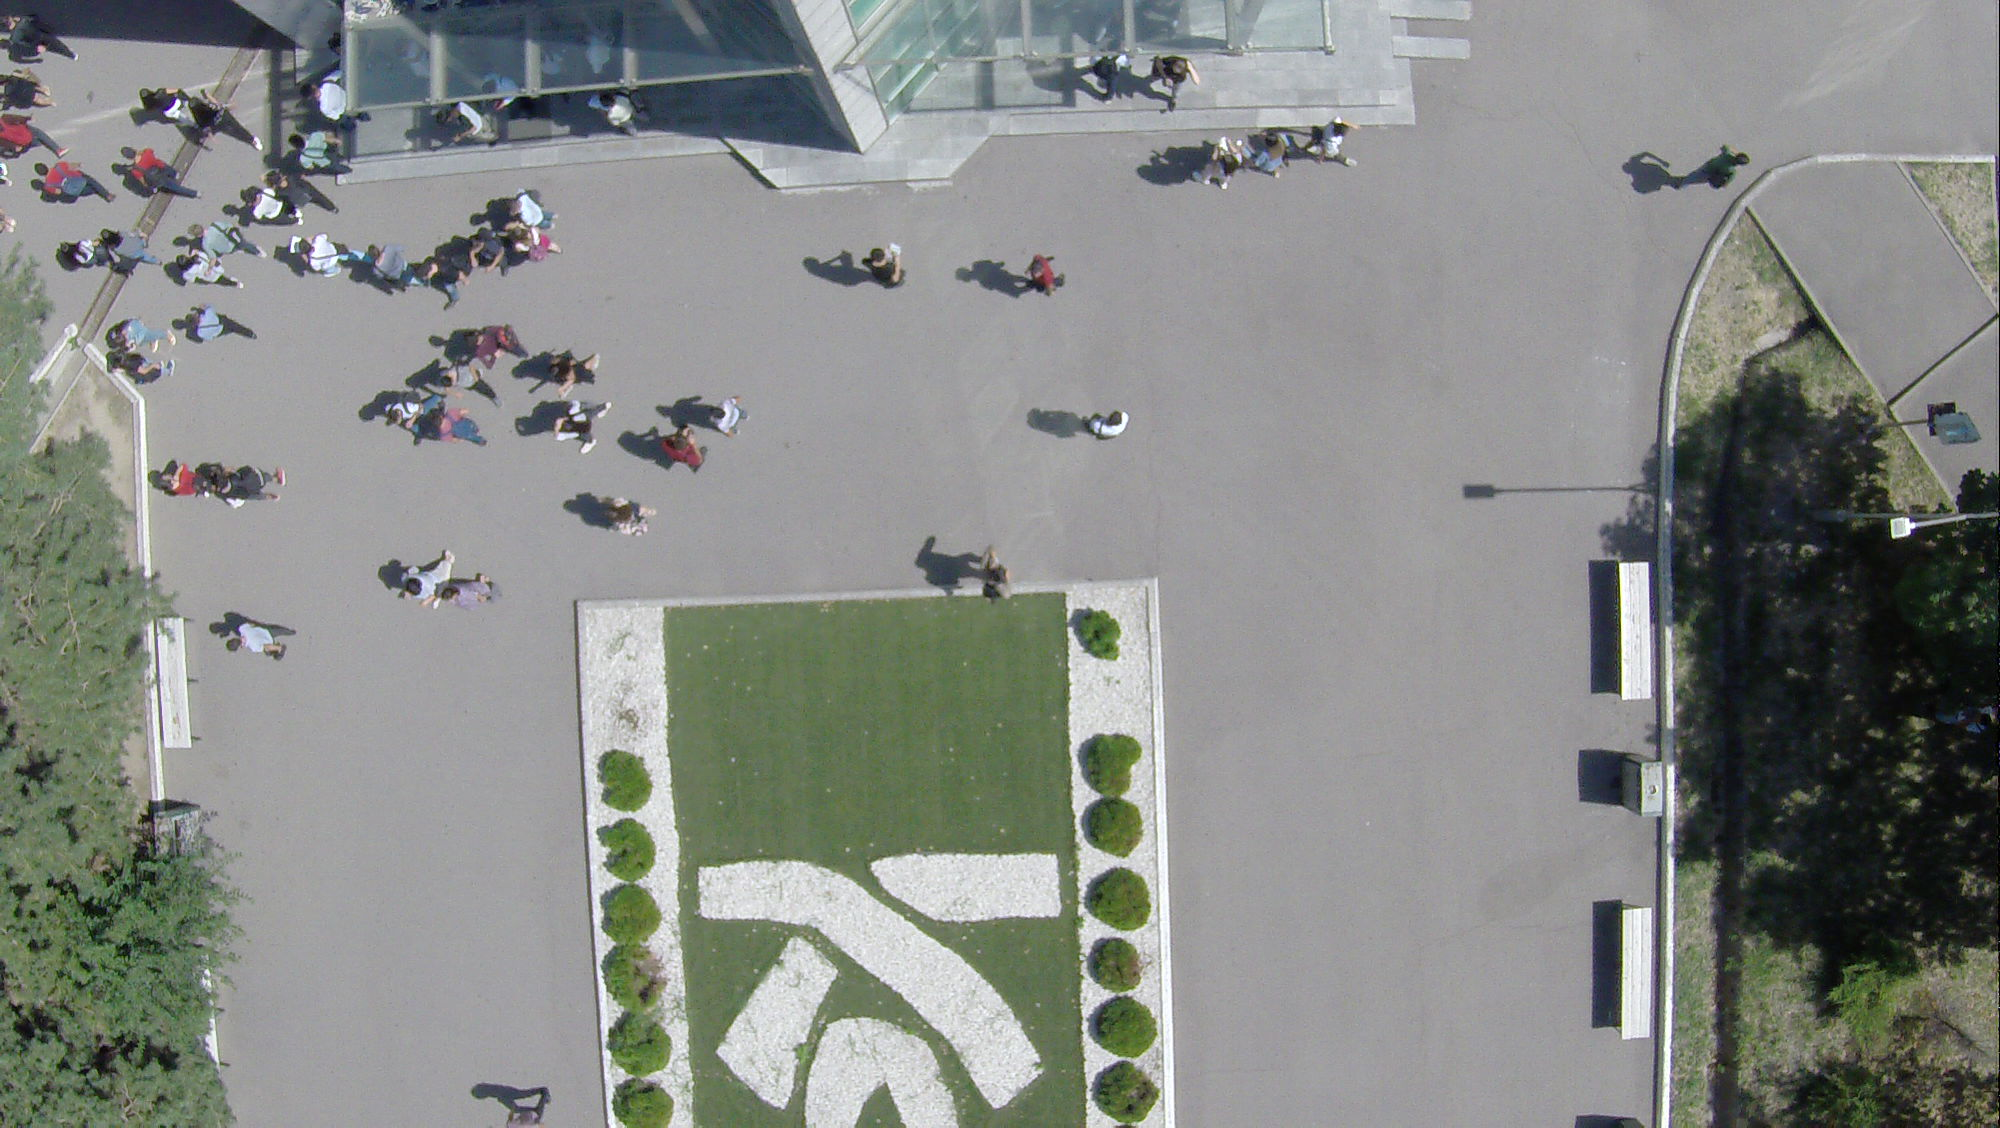person: (119, 140, 202, 197), (190, 94, 261, 151), (3, 14, 78, 66), (545, 399, 611, 458), (32, 162, 115, 208), (1681, 139, 1749, 190), (138, 75, 198, 132), (170, 251, 251, 291), (302, 74, 365, 125), (294, 230, 366, 273), (285, 131, 353, 176), (599, 88, 657, 142), (418, 255, 470, 313), (103, 314, 177, 354), (188, 223, 271, 258), (398, 549, 455, 602), (1193, 138, 1248, 190), (548, 346, 599, 401), (436, 363, 503, 404), (1301, 119, 1358, 166), (265, 174, 337, 212), (183, 306, 260, 341), (1149, 53, 1197, 108), (502, 190, 560, 234), (465, 324, 528, 366), (244, 190, 306, 230), (214, 467, 286, 502), (432, 406, 490, 448), (99, 225, 160, 265), (603, 497, 659, 540), (509, 223, 566, 265), (380, 396, 431, 443), (1084, 54, 1131, 105), (364, 248, 423, 289), (222, 622, 286, 660), (105, 354, 175, 388), (658, 427, 709, 473), (431, 105, 493, 142), (702, 392, 749, 440), (1251, 132, 1301, 176), (1020, 254, 1065, 298), (867, 242, 906, 290), (448, 576, 502, 610), (156, 462, 208, 494), (975, 548, 1007, 599), (469, 232, 508, 271), (56, 237, 103, 265), (1088, 408, 1128, 441)
